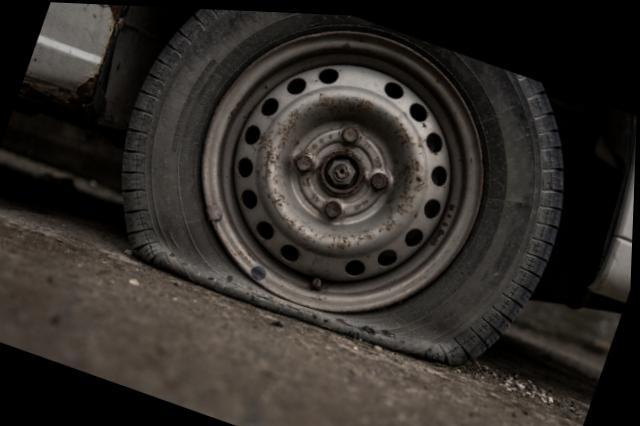tire flat: (125, 7, 563, 361)
